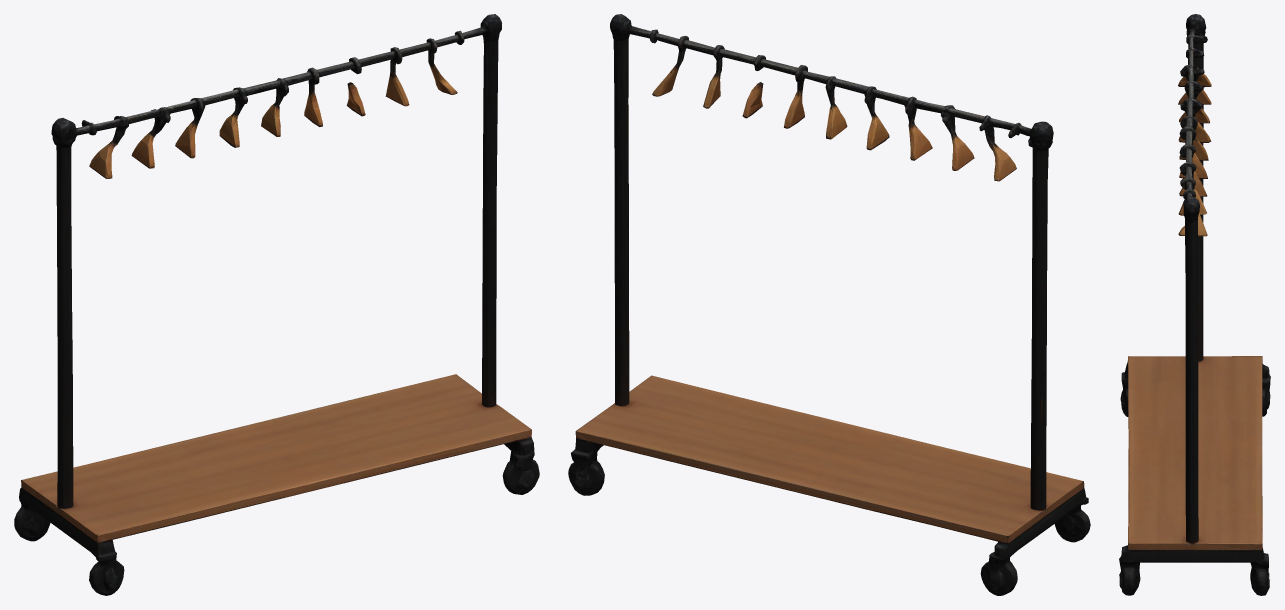
3 views of the same model, side by side, from view 1: azimuth 30°, elevation 25°; view 2: azimuth 150°, elevation 25°; view 3: azimuth 270°, elevation 25° (orthographic). The views are drawn at different scales.
Visible parts, largest first — view 1: geometry_0; view 2: geometry_0; view 3: geometry_0.
Boxes of the visible parts, x1=… form: geometry_0: x1=14, y1=14, x2=539, y2=595; geometry_0: x1=568, y1=14, x2=1090, y2=595; geometry_0: x1=1119, y1=14, x2=1270, y2=595.
Bounding box in the file's own units: 0.9956 × 0.9552 × 0.3293.
1 material, 1 textured.
